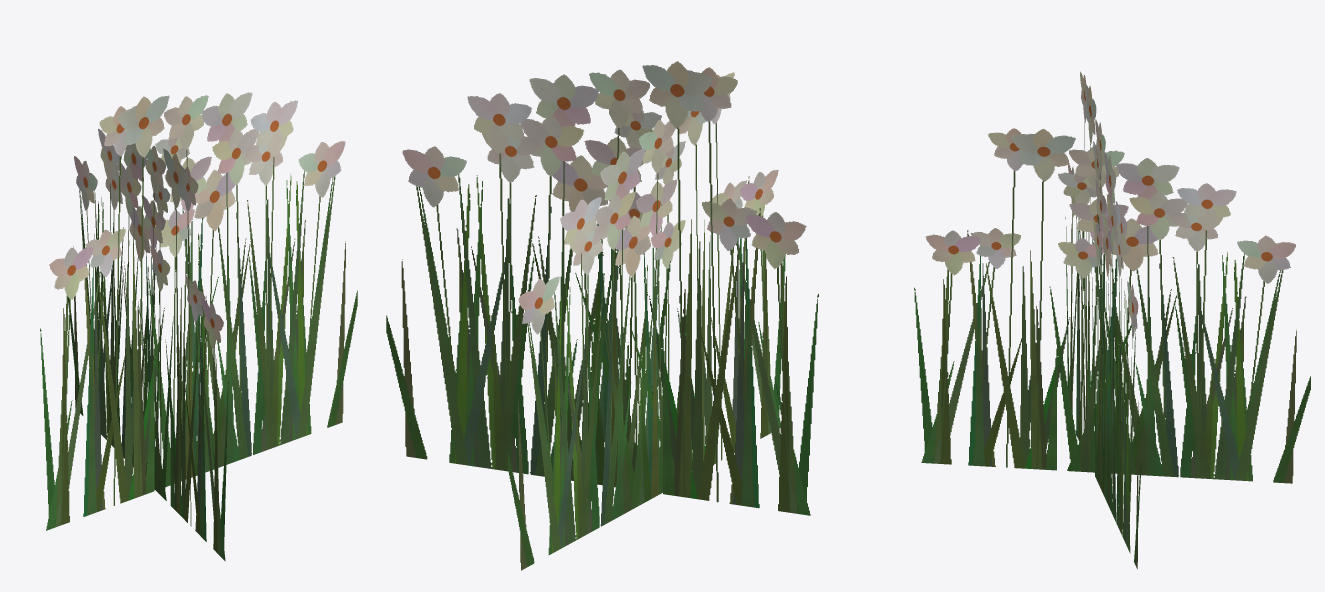
File: Flower_Garden_2_LOD2.gltf
The picture shows the model from 3 angles, left to right: view 1: azimuth 30°, elevation 25°; view 2: azimuth 150°, elevation 25°; view 3: azimuth 270°, elevation 25°; orthographic projection. The views are drawn at different scales.
Parts seen in each view (by area): view 1: Flower_Garden_2_LOD2; view 2: Flower_Garden_2_LOD2; view 3: Flower_Garden_2_LOD2.
Boxes of the visible parts, x1,y1,x2,y2 form: Flower_Garden_2_LOD2: (40,92,357,561); Flower_Garden_2_LOD2: (386,61,818,570); Flower_Garden_2_LOD2: (914,71,1310,569).
Bounding box in the file's own units: 0.8485 × 0.847 × 0.8566.
Materials: 1 (1 with a texture image).
